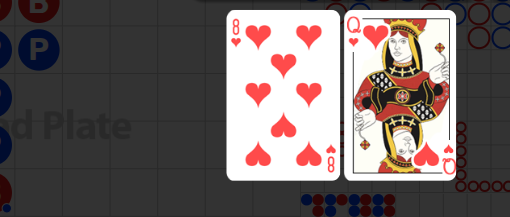8H: (230, 18, 243, 50)
9H: (346, 15, 361, 48)
